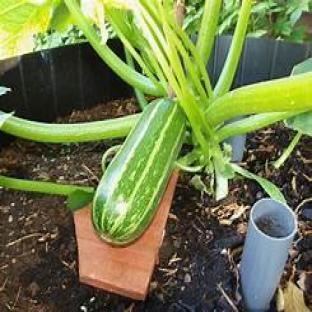Zucchini: (92, 99, 184, 244)
